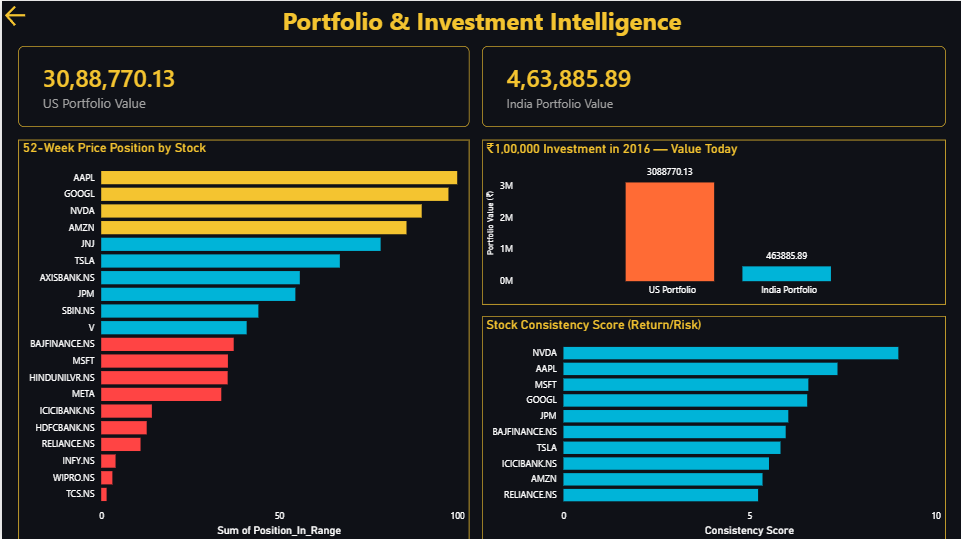

What the dashboard file says about the page in this screenshot:
{"tool":"powerbi","page":{"name":"Portfolio Intelligence","canvas":[1280,720],"ordinal":3},"visuals":[{"type":"textbox","box":[0,0,1280,60],"z":0},{"type":"cardVisual","fields":{"Data":["_Measures.India Portfolio Value"]},"box":[640,60,618.3,108.3],"z":1000},{"type":"cardVisual","fields":{"Data":["_Measures.US Portfolio Value"]},"box":[21.7,60,601.7,108.3],"z":2000},{"type":"clusteredBarChart","title":"52-Week Price Position by Stock","fields":{"Category":["52week_positioning.Ticker"],"Y":["Sum(52week_positioning.Position_In_Range)"]},"box":[21.7,185,601.7,535],"z":3000},{"type":"clusteredBarChart","title":"Stock Consistency Score (Return/Risk)","fields":{"Category":["stock_summary.Ticker"],"Y":["_Measures.Consistency Score"]},"box":[640,420,618.3,300],"z":3001},{"type":"clusteredColumnChart","title":"₹1,00,000 Investment in 2016 — Value Today","fields":{"Category":["Portfolio_Simulation.Market"],"Y":["Sum(Portfolio_Simulation.Final_Value )"]},"box":[640,185,618.3,220],"z":3002},{"type":"actionButton","box":[0,0,36.7,40],"z":3003}]}

Visuals, with their boxes in screenshot pixels (x1, y1, x2, y2), scaled from the page's 1280x720 canvas onto the 961x539 screenshot:
textbox: [x1=0, y1=0, x2=960, y2=45]
cardVisual - _Measures.India Portfolio Value: [x1=480, y1=45, x2=945, y2=126]
cardVisual - _Measures.US Portfolio Value: [x1=16, y1=45, x2=468, y2=126]
"52-Week Price Position by Stock" clusteredBarChart: [x1=16, y1=138, x2=468, y2=538]
"Stock Consistency Score (Return/Risk)" clusteredBarChart: [x1=480, y1=314, x2=945, y2=538]
"₹1,00,000 Investment in 2016 — Value Today" clusteredColumnChart: [x1=480, y1=138, x2=945, y2=303]
actionButton: [x1=0, y1=0, x2=28, y2=30]
